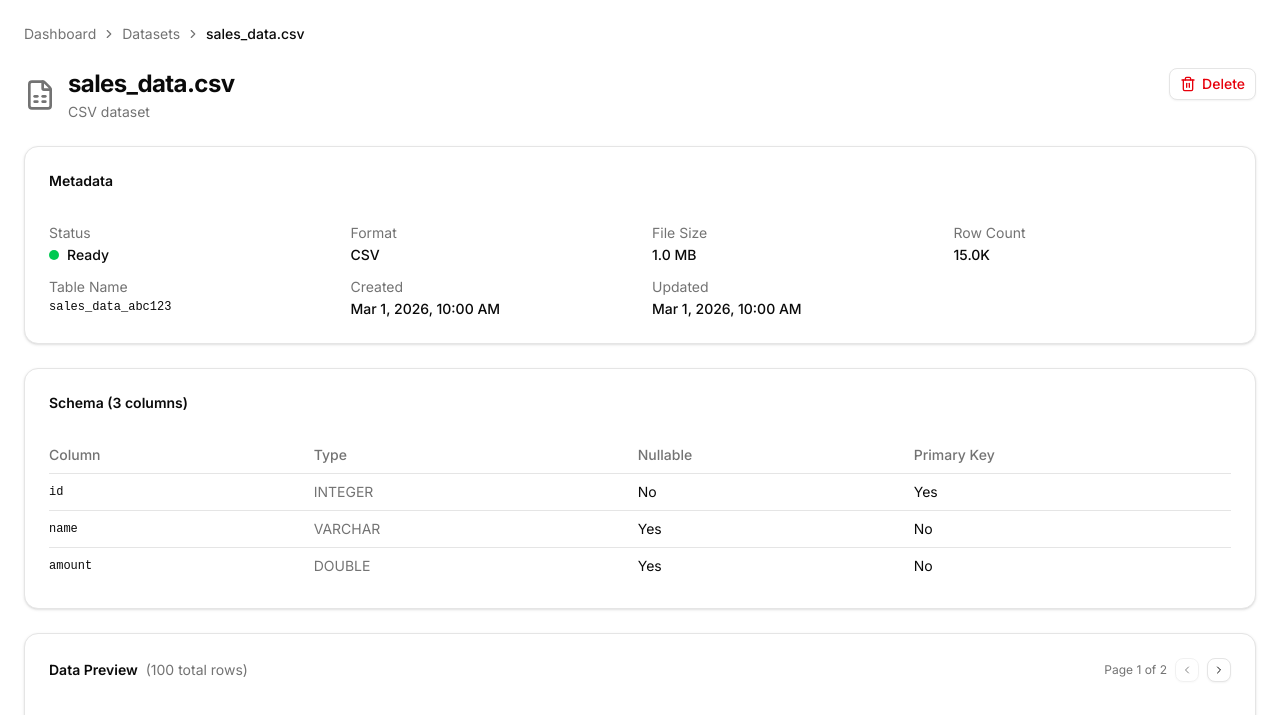
Scenario: DatasetDetailPage › delete › shows delete error when delete fails
The image size is (1280, 715).
Click the button with test id "delete-button" at point(1213, 84), box x1=1169 y1=68 x2=1256 y2=100
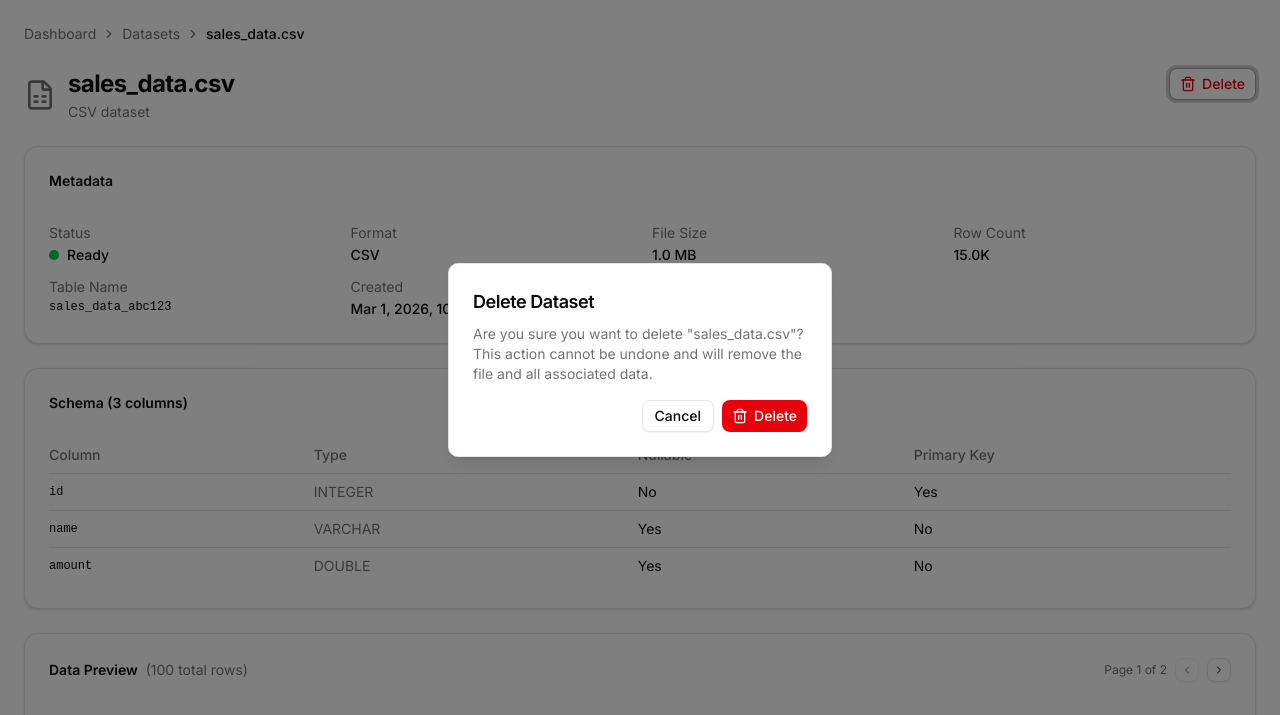
Click the button with test id "confirm-delete-button" at point(765, 416), box x1=722 y1=400 x2=807 y2=432
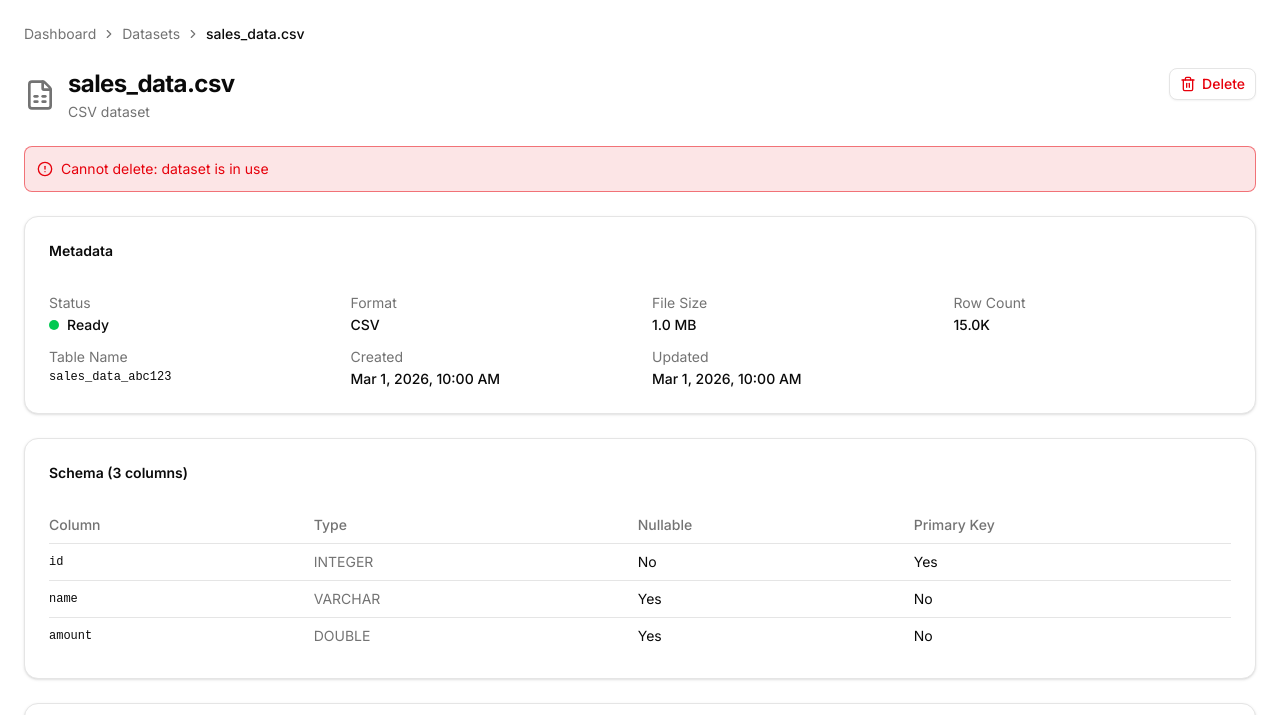
Expected: the element with test id "delete-error" is shown, x1=24 y1=146 x2=1256 y2=192
Expected: the text "Cannot delete: dataset is in use" is shown, x1=61 y1=159 x2=269 y2=179
